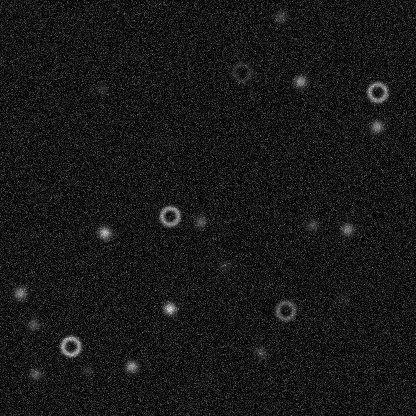Ring: (230, 60, 254, 84), (273, 298, 297, 322), (58, 334, 82, 358), (157, 203, 181, 227), (365, 80, 389, 104)
Spot: (339, 221, 355, 237), (216, 257, 232, 273), (123, 358, 139, 374), (27, 365, 43, 381), (25, 316, 41, 332), (272, 9, 288, 25), (304, 217, 320, 233), (12, 285, 28, 301), (292, 73, 308, 89), (79, 362, 95, 378), (161, 300, 177, 316), (96, 224, 112, 240), (368, 118, 384, 134), (334, 289, 350, 305), (93, 80, 109, 96), (252, 344, 268, 360), (192, 213, 208, 229)
